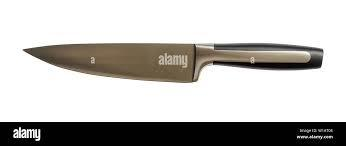Knife: (22, 42, 323, 82)
